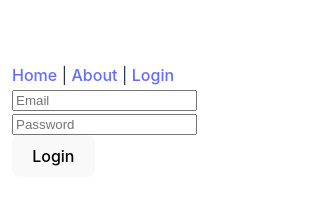
Test: logs in as a user and redirects to profile
Type "user@gmail.com" into the field with placeholder "Email" at x=104, y=101, box [12,90,197,111]
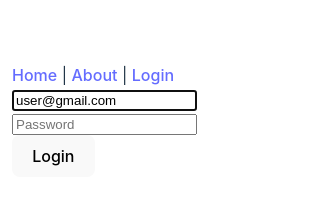
Type "p@ssword" into the password field with placeholder "Password" at x=104, y=125, box [12,114,197,135]
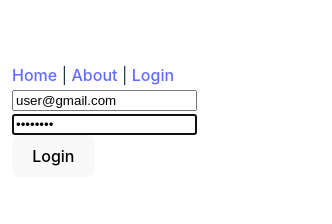
Click the button "Login" at x=53, y=156, box [12,135,95,177]
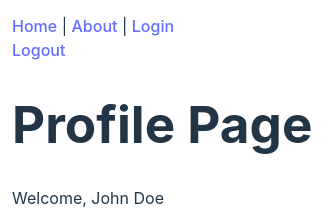
expect the heading "Profile Page" is shown: met, box [12,96,312,152]
